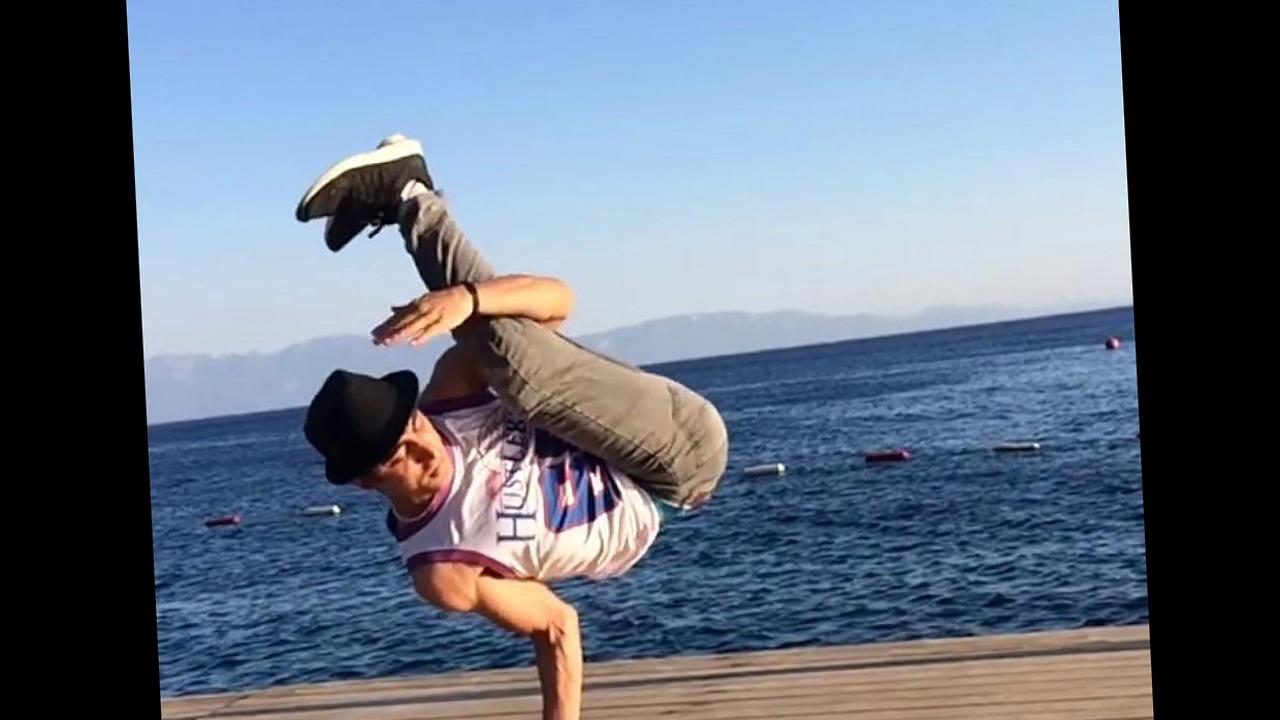airchair: (301, 136, 727, 720)
